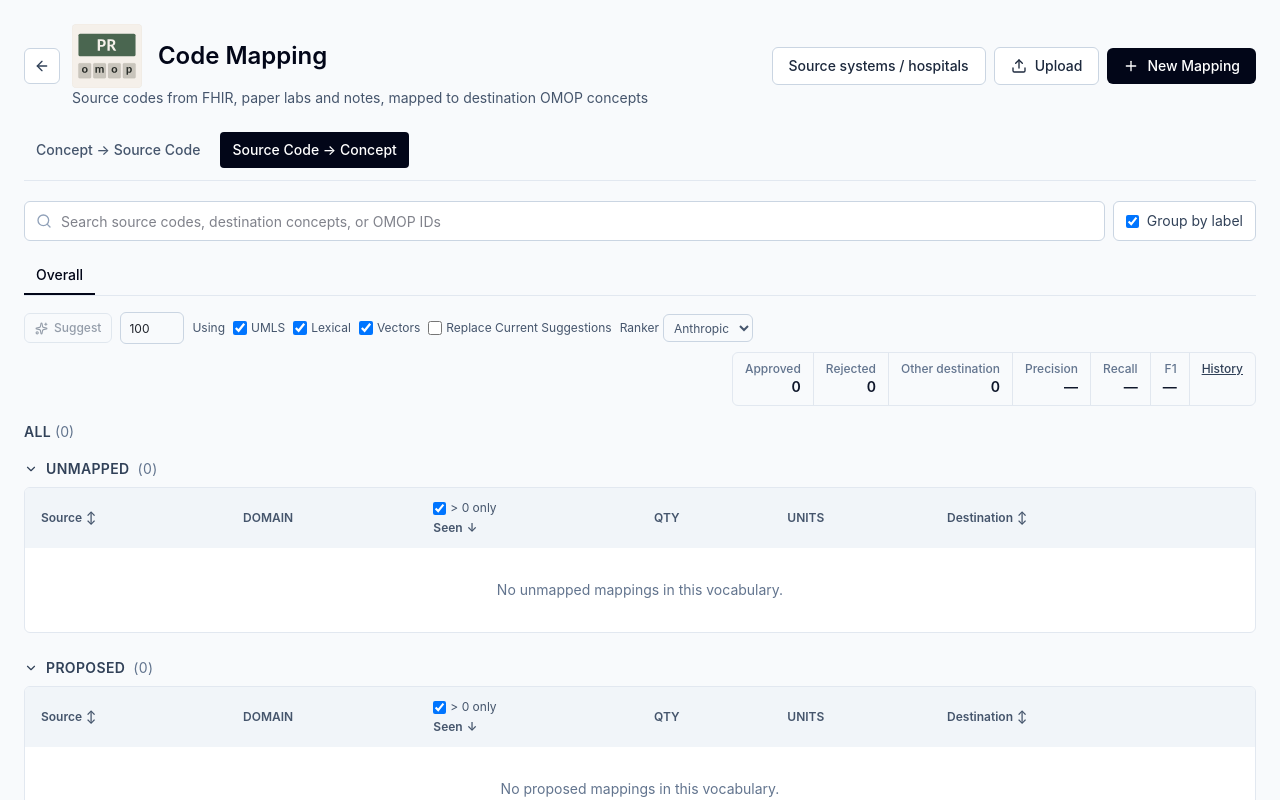
Test: CodeMappingPage upload action › opens the upload dialog with signed-in email provenance
Click the button "Upload": {"x": 1047, "y": 66} [994,47,1100,85]
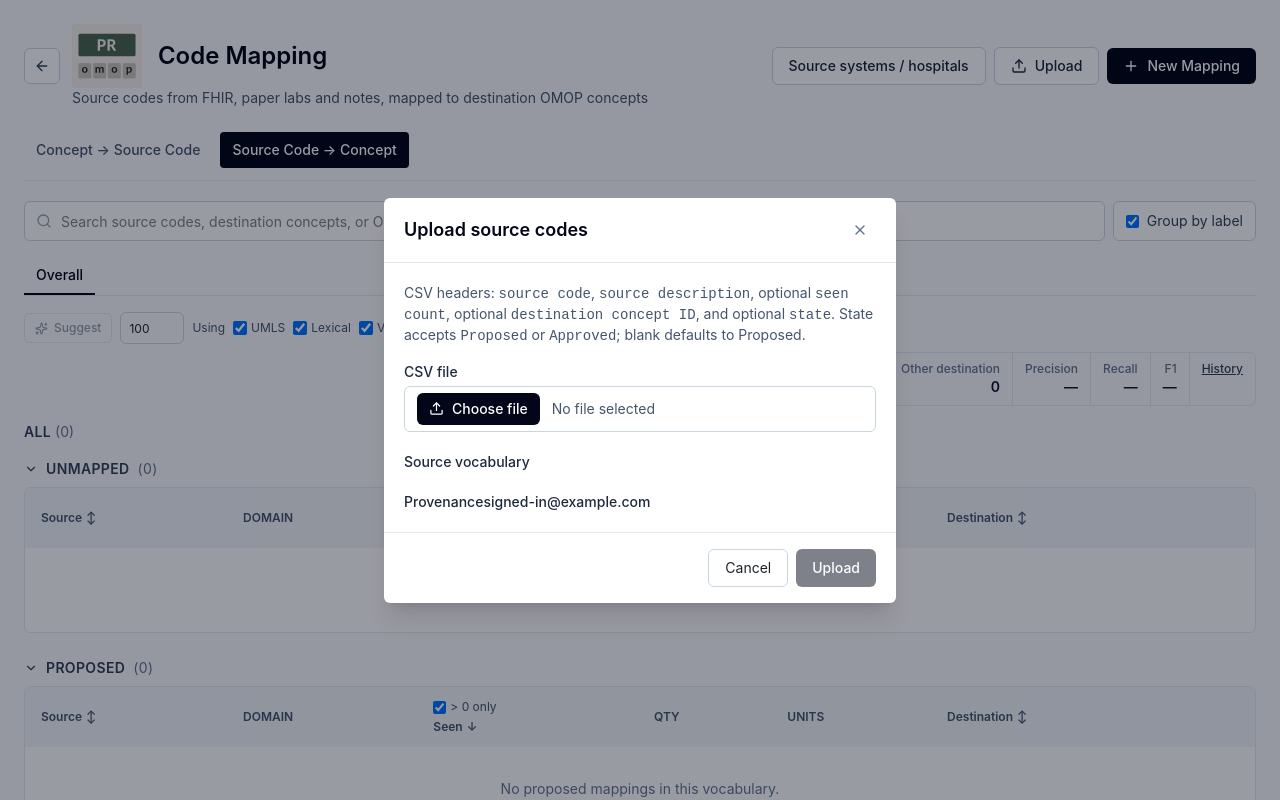
Expected: the dialog "Upload source codes" is shown, [384,198,896,602]
Expected: the field labelled "Provenance" holds "signed-in@example.com", [483,492,702,512]
